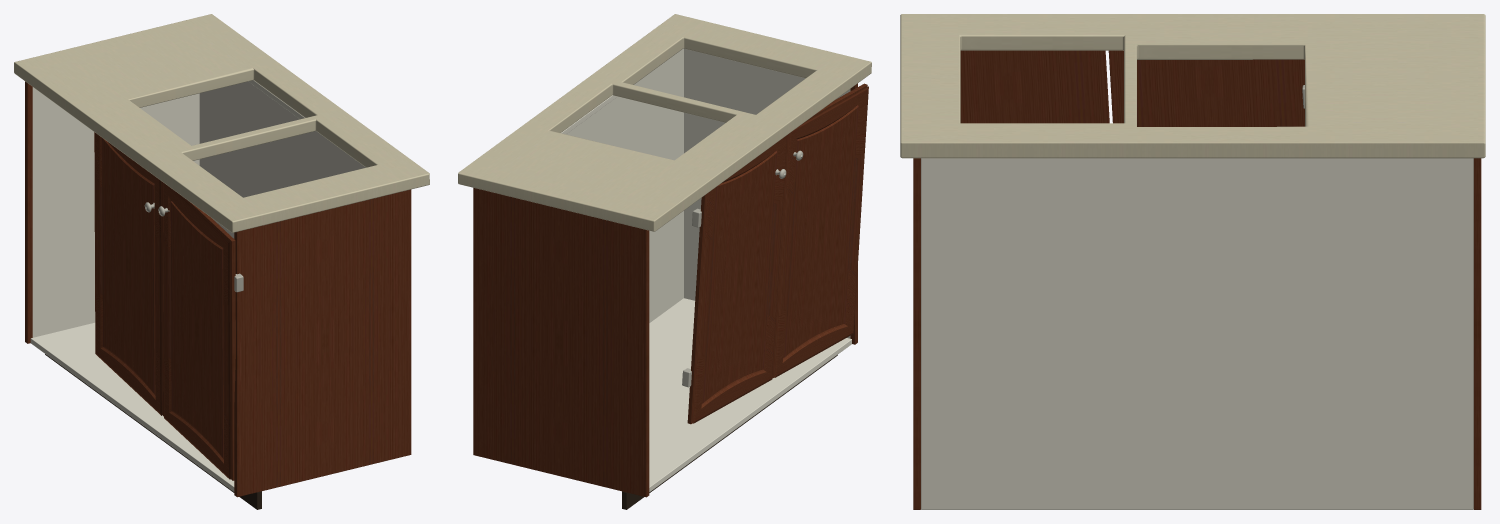
File: cabinetry_shell__sink_run.glb
3 views of the same model, side by side, from view 1: azimuth 30°, elevation 25°; view 2: azimuth 150°, elevation 25°; view 3: azimuth 270°, elevation 25° (orthographic). The views are drawn at different scales.
Parts seen in each view (by area): view 1: sink_base_carcass, sink_countertop, sink_base_right_door, sink_base_left_door; view 2: sink_base_carcass, sink_countertop, sink_base_left_door, sink_base_right_door; view 3: sink_base_carcass, sink_countertop, sink_base_left_door, sink_base_right_door.
Part boxes in pixels (x1=…): sink_base_carcass: x1=25, y1=80, x2=411, y2=509; sink_countertop: x1=14, y1=14, x2=429, y2=232; sink_base_right_door: x1=158, y1=182, x2=243, y2=480; sink_base_left_door: x1=94, y1=132, x2=163, y2=416; sink_base_carcass: x1=473, y1=48, x2=857, y2=509; sink_countertop: x1=458, y1=14, x2=871, y2=231; sink_base_left_door: x1=682, y1=135, x2=787, y2=424; sink_base_right_door: x1=772, y1=83, x2=868, y2=378; sink_base_carcass: x1=913, y1=158, x2=1481, y2=509; sink_countertop: x1=900, y1=14, x2=1485, y2=158; sink_base_left_door: x1=1108, y1=50, x2=1304, y2=126; sink_base_right_door: x1=960, y1=50, x2=1109, y2=123.
Size of the model in its own units: 0.7137 by 1.02 by 1.36.
Materials: 5 (2 with a texture image).
